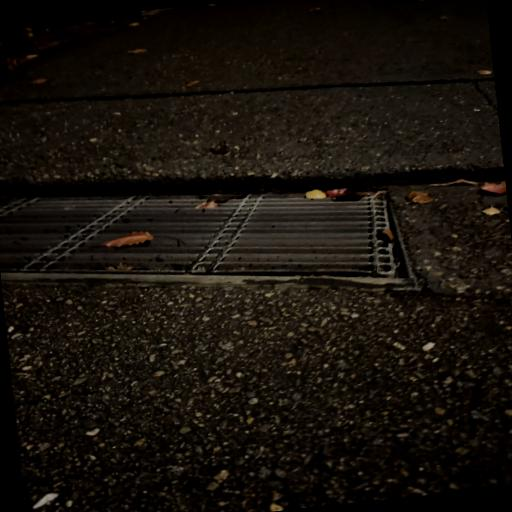debris: (305, 188, 384, 201), (102, 231, 153, 248), (196, 196, 230, 209), (429, 179, 478, 187), (480, 181, 507, 195), (407, 191, 434, 204), (210, 141, 229, 154), (186, 80, 201, 88), (128, 49, 147, 54), (310, 8, 321, 12)
gutter: (0, 193, 400, 279)
